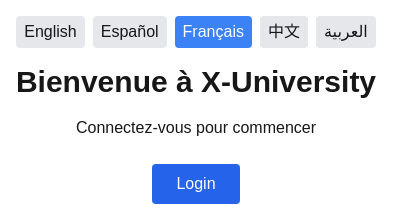
UnauthHome › switches to Mandarin when 中文 button is clicked
Click the button "中文".
click(284, 32)  # box [260, 16, 308, 48]
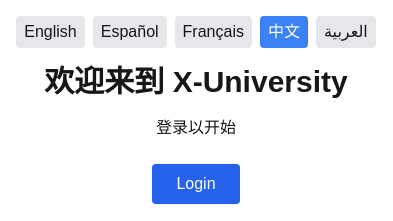
Expected: the heading "欢迎来到 X‑University" is shown, [44, 64, 348, 100]
Expected: the text "登录以开始" is shown, [156, 116, 236, 140]
